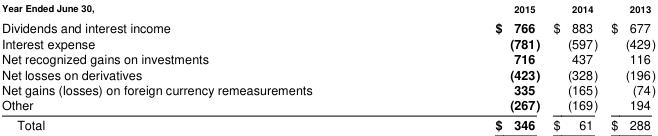table: (1, 0, 655, 133)
table column: (1, 0, 403, 133), (403, 0, 545, 133), (545, 0, 603, 133), (603, 0, 655, 133)
table column header: (1, 0, 655, 16)
table row: (1, 16, 655, 35), (1, 114, 655, 133), (1, 96, 655, 114), (1, 0, 655, 16), (1, 50, 655, 66), (1, 35, 655, 50), (1, 66, 655, 81), (1, 81, 655, 96)
